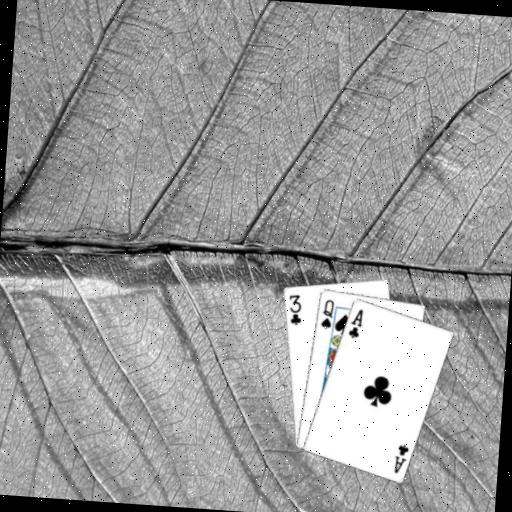3C: (284, 291, 304, 328)
AC: (345, 305, 365, 340), (391, 441, 411, 476)
QS: (317, 296, 335, 331)
